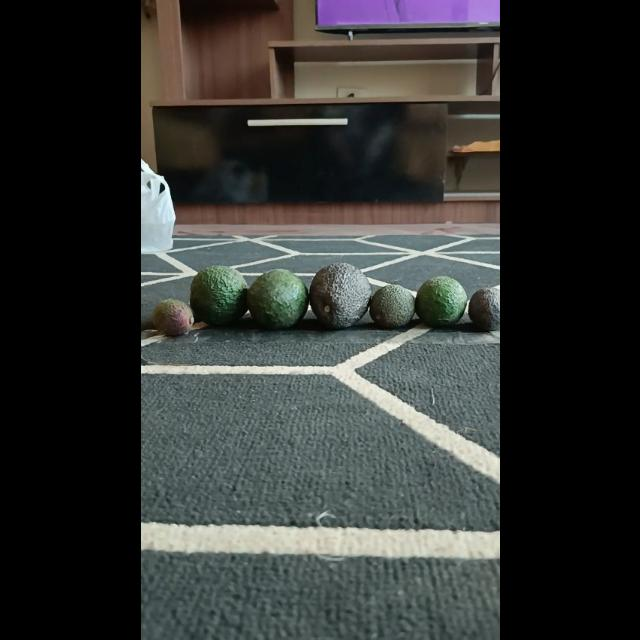Primera: (309, 262, 371, 328), (247, 268, 310, 329), (188, 265, 248, 325)
Segunda: (414, 275, 466, 327)
Tercera: (368, 284, 416, 330), (150, 297, 194, 337), (466, 285, 499, 331)
